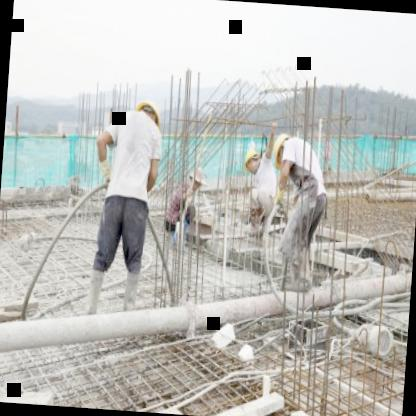helmet: (134, 96, 163, 134), (270, 127, 294, 172), (188, 164, 207, 193), (242, 147, 262, 173)
